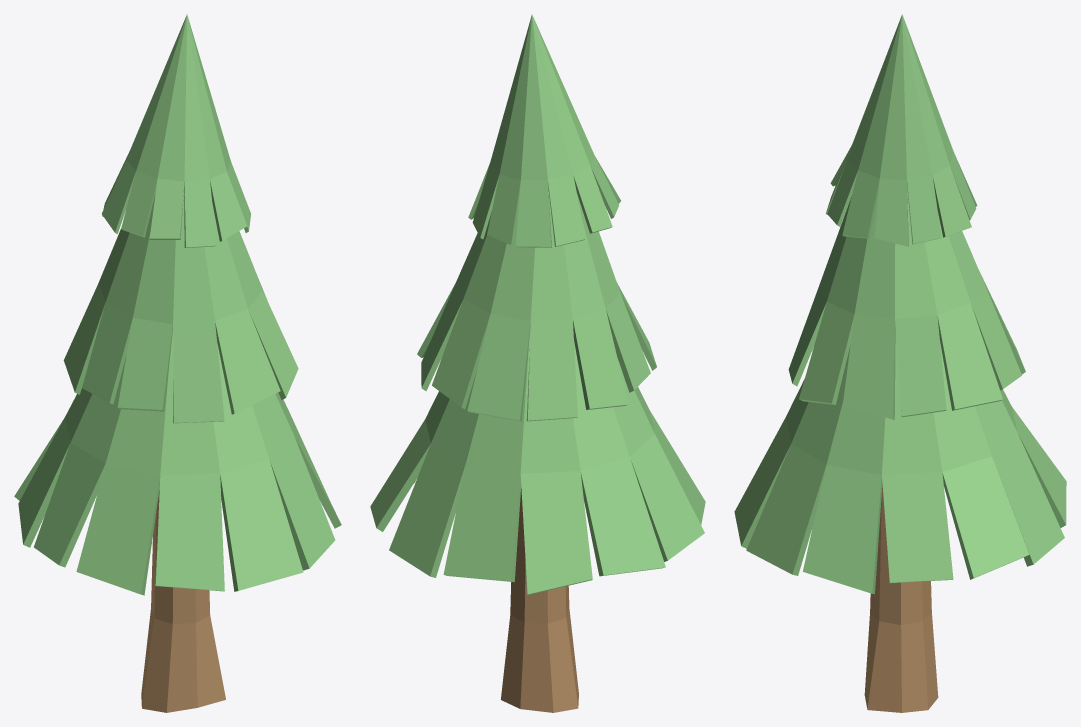
File: tree009.gltf
3 renders of one model, left to right at view 1: azimuth 30°, elevation 25°; view 2: azimuth 150°, elevation 25°; view 3: azimuth 270°, elevation 25°, orthographic.
Parts seen in each view (by area): view 1: node_tree009_-198472; view 2: node_tree009_-198472; view 3: node_tree009_-198472.
Part boxes in pixels (x1,y1,x2,y2): node_tree009_-198472: (14,14,341,712); node_tree009_-198472: (370,14,705,712); node_tree009_-198472: (734,14,1066,712).
Size of the model in its own units: 2.02 by 4.71 by 2.06.
